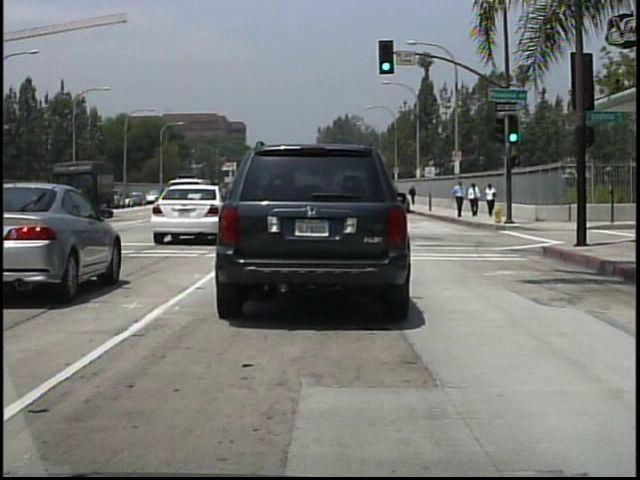person: (452, 178, 467, 219), (467, 180, 481, 217), (483, 180, 497, 216), (407, 184, 417, 206)
